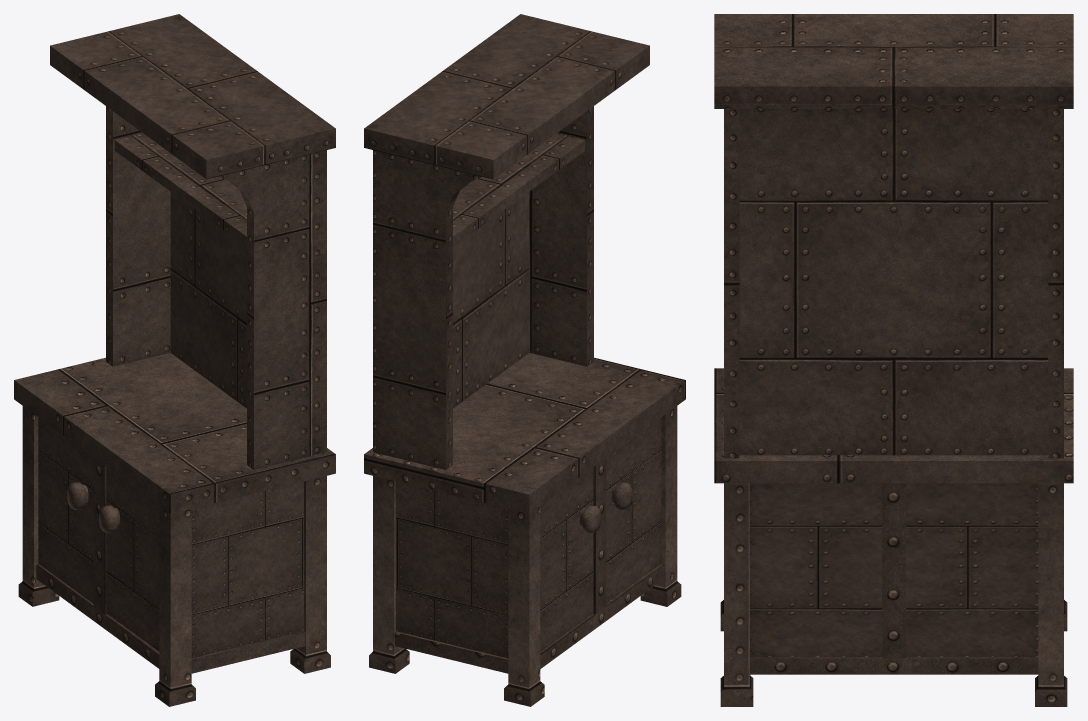
File: Shelf_03_Metal.fbx
3 renders of one model, left to right at view 1: azimuth 30°, elevation 25°; view 2: azimuth 150°, elevation 25°; view 3: azimuth 270°, elevation 25°, orthographic. The views are drawn at different scales.
Visible parts, largest first — view 1: Shelf_03_Metal; view 2: Shelf_03_Metal; view 3: Shelf_03_Metal.
Boxes of the visible parts, x1=… form: Shelf_03_Metal: x1=14, y1=14, x2=335, y2=706; Shelf_03_Metal: x1=364, y1=14, x2=685, y2=706; Shelf_03_Metal: x1=714, y1=14, x2=1073, y2=706.
Size of the model in its own units: 67.87 by 205 by 107.
